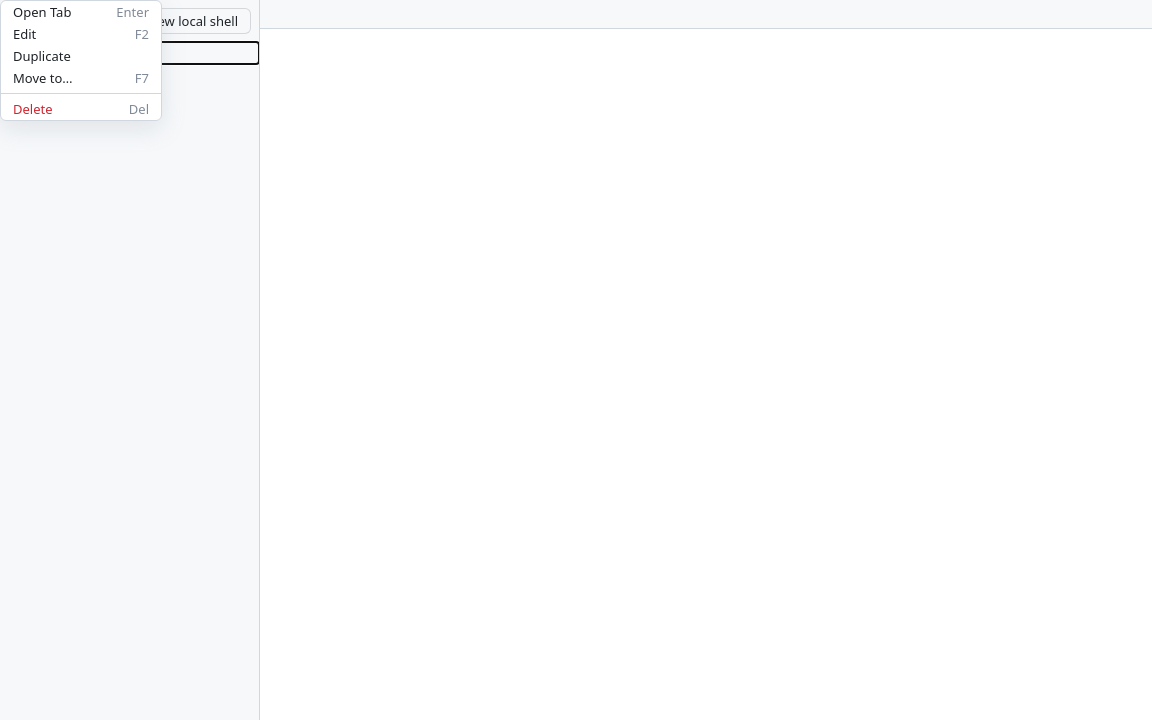
Test: Saved session menu › lists Open Tab, Edit, Duplicate, Move to… and a red Delete with their keys, and edits with Edit or F2
This screenshot has width=1152, height=720.
Expected: the button "db" is shown, [0,42,259,64]
Click the menu item "Edit F2" at (81, 34), box [1,23,161,45]
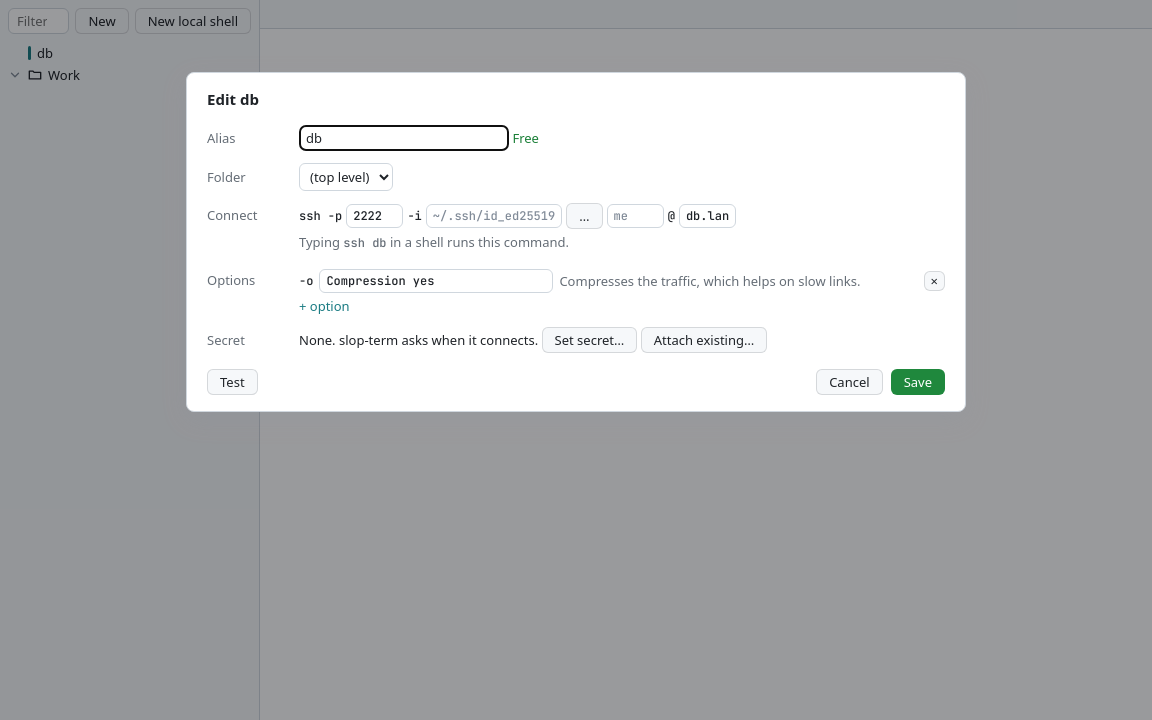
Expected: the dialog "Edit db" is shown, [186,72,966,412]
Expected: the field named "Port" holds "2222", [346,204,403,228]
Expected: the field named "Option 1" holds "Compression yes", [319,268,553,292]
Press Escape
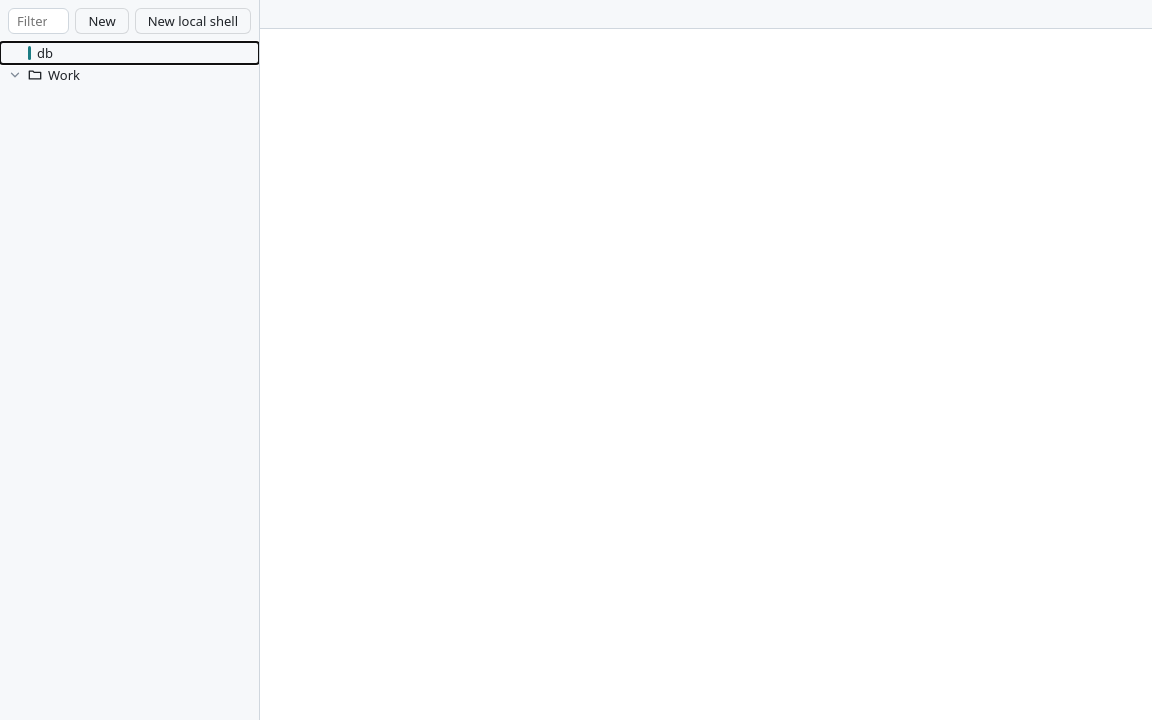
Expected: the dialog is gone
Press F2
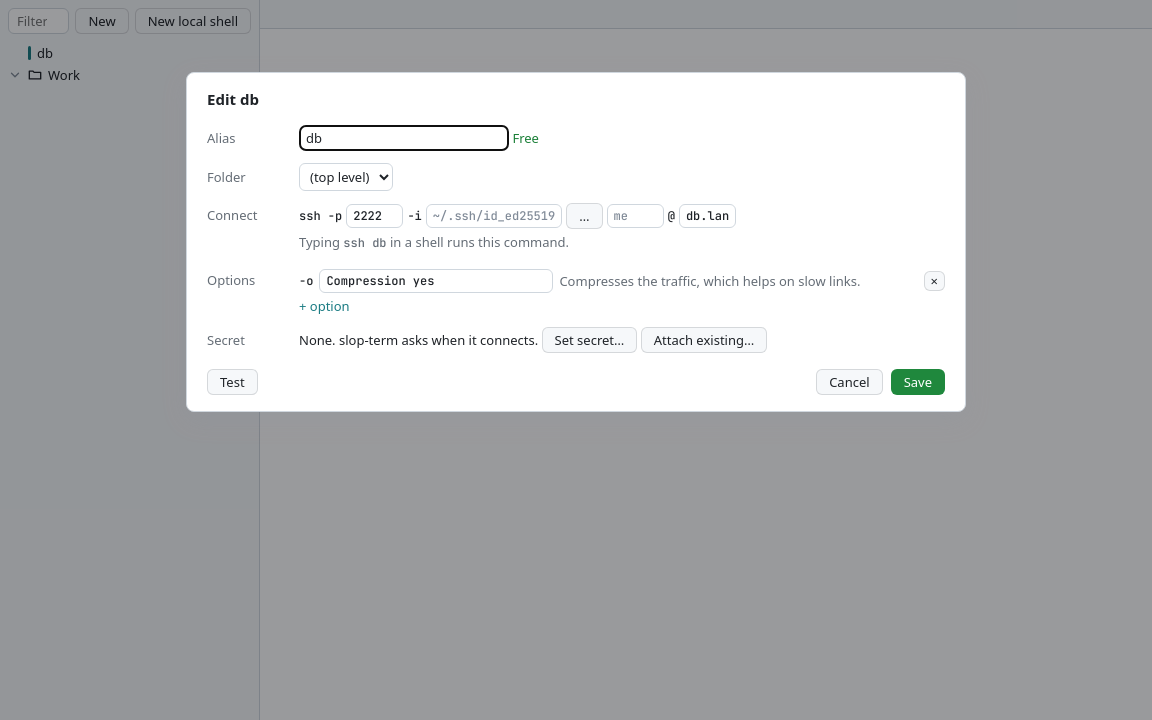
Expected: the dialog "Edit db" is shown, [186,72,966,412]
